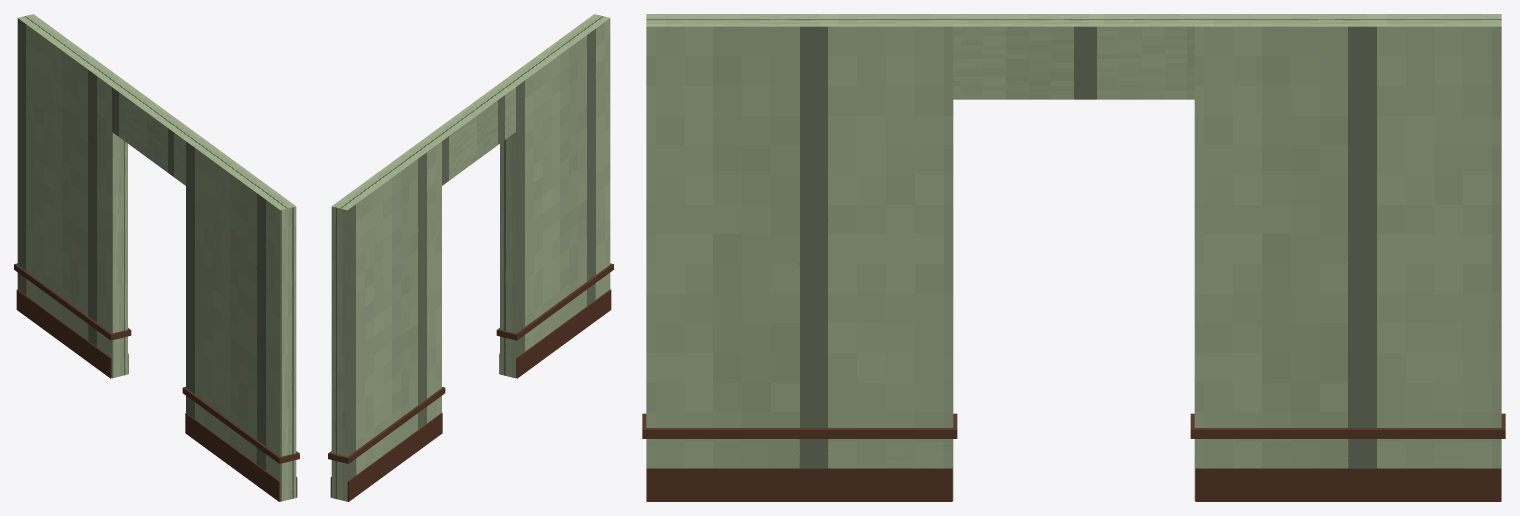
Rendered from dining_kitchen.glb.
3 renders of one model, left to right at view 1: azimuth 30°, elevation 25°; view 2: azimuth 150°, elevation 25°; view 3: azimuth 270°, elevation 25°, orthographic. The views are drawn at different scales.
Visible parts, largest first — view 1: Box3, Box1, Box5, Box4, Box2, Box6, Box7, Box9, Box8; view 2: Box1, Box3, Box5, Box2, Box4, Box8, Box7, Box9; view 3: Box3, Box1, Box5, Box2, Box4, Box8, Box6, Box7, Box9.
Part boxes in pixels (x1,y1,x2,y2): Box3: [186, 137, 296, 501]; Box1: [17, 14, 127, 378]; Box5: [112, 83, 201, 185]; Box4: [185, 413, 297, 501]; Box2: [16, 289, 128, 378]; Box6: [17, 273, 127, 377]; Box7: [14, 263, 131, 340]; Box9: [182, 387, 299, 463]; Box8: [227, 435, 296, 500]; Box1: [331, 137, 441, 501]; Box3: [500, 14, 610, 378]; Box5: [426, 83, 515, 185]; Box2: [330, 413, 442, 501]; Box4: [499, 289, 611, 378]; Box8: [500, 273, 610, 377]; Box7: [328, 387, 445, 463]; Box9: [496, 263, 613, 340]; Box3: [646, 14, 953, 500]; Box1: [1194, 14, 1501, 500]; Box5: [953, 14, 1194, 99]; Box2: [1195, 468, 1501, 501]; Box4: [646, 468, 952, 501]; Box8: [646, 439, 953, 498]; Box6: [1194, 439, 1501, 500]; Box7: [1190, 413, 1505, 438]; Box9: [642, 413, 957, 438].
Bounding box in the file's own units: 0.19 × 2.6 × 4.29.
2 materials, 1 textured.
